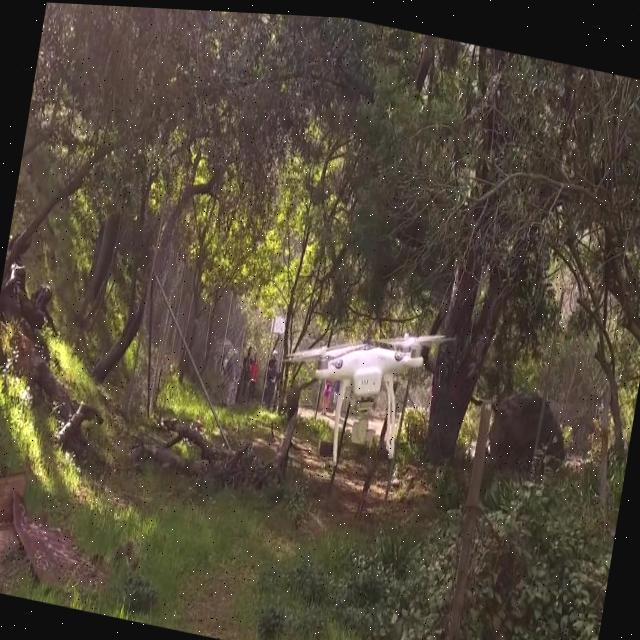drone: (270, 295, 457, 484)
